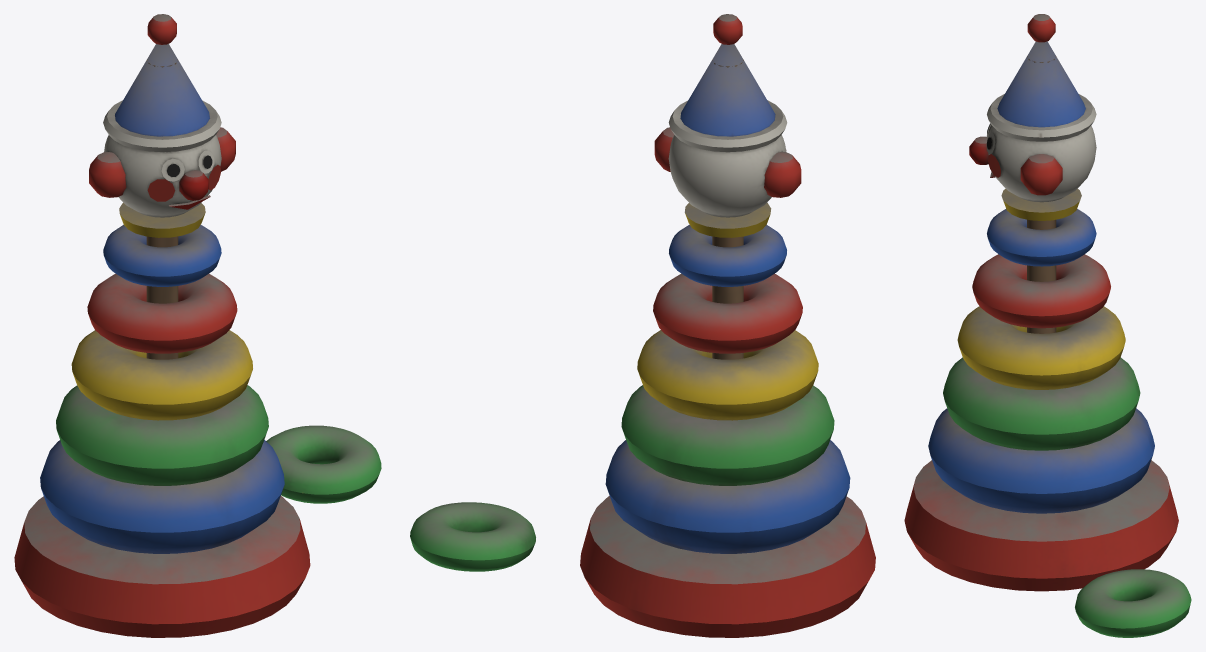
File: SM_ToyPyramid.fbx
3 renders of one model, left to right at view 1: azimuth 30°, elevation 25°; view 2: azimuth 150°, elevation 25°; view 3: azimuth 270°, elevation 25°, orthographic. The views are drawn at different scales.
Visible parts, largest first — view 1: SM_ToyPyramid; view 2: SM_ToyPyramid; view 3: SM_ToyPyramid.
Part boxes in pixels (box(x1,y1,x2,y2)): SM_ToyPyramid: box(14, 14, 381, 637); SM_ToyPyramid: box(410, 14, 875, 637); SM_ToyPyramid: box(904, 14, 1191, 637).
Bounding box in the file's own units: 0.227 × 0.315 × 0.1569.
1 material, 1 textured.
